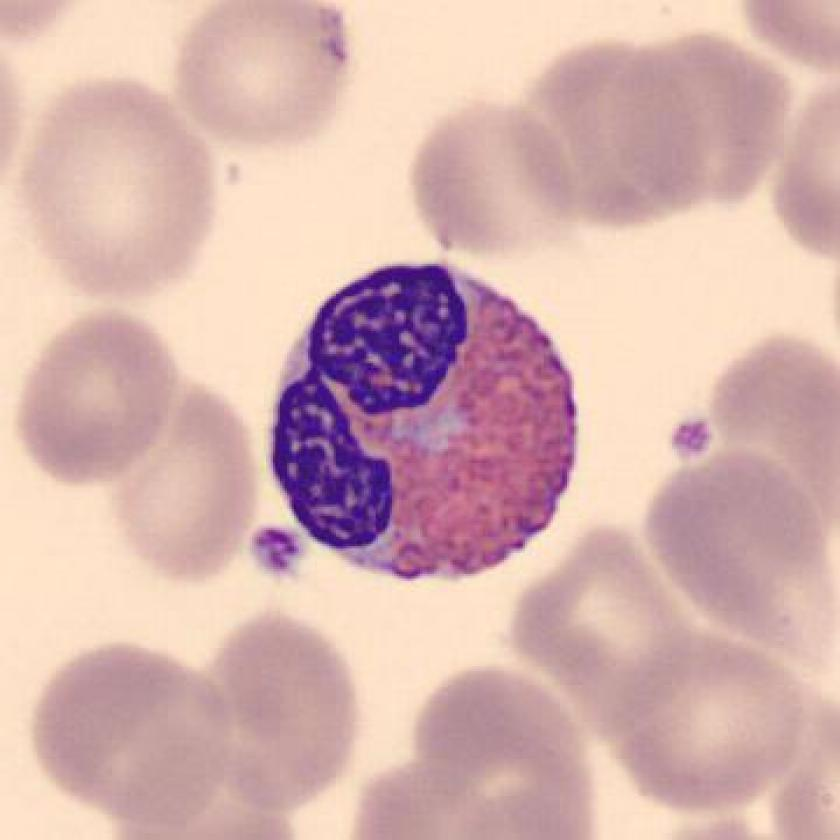eosinophil: (248, 251, 594, 598)
